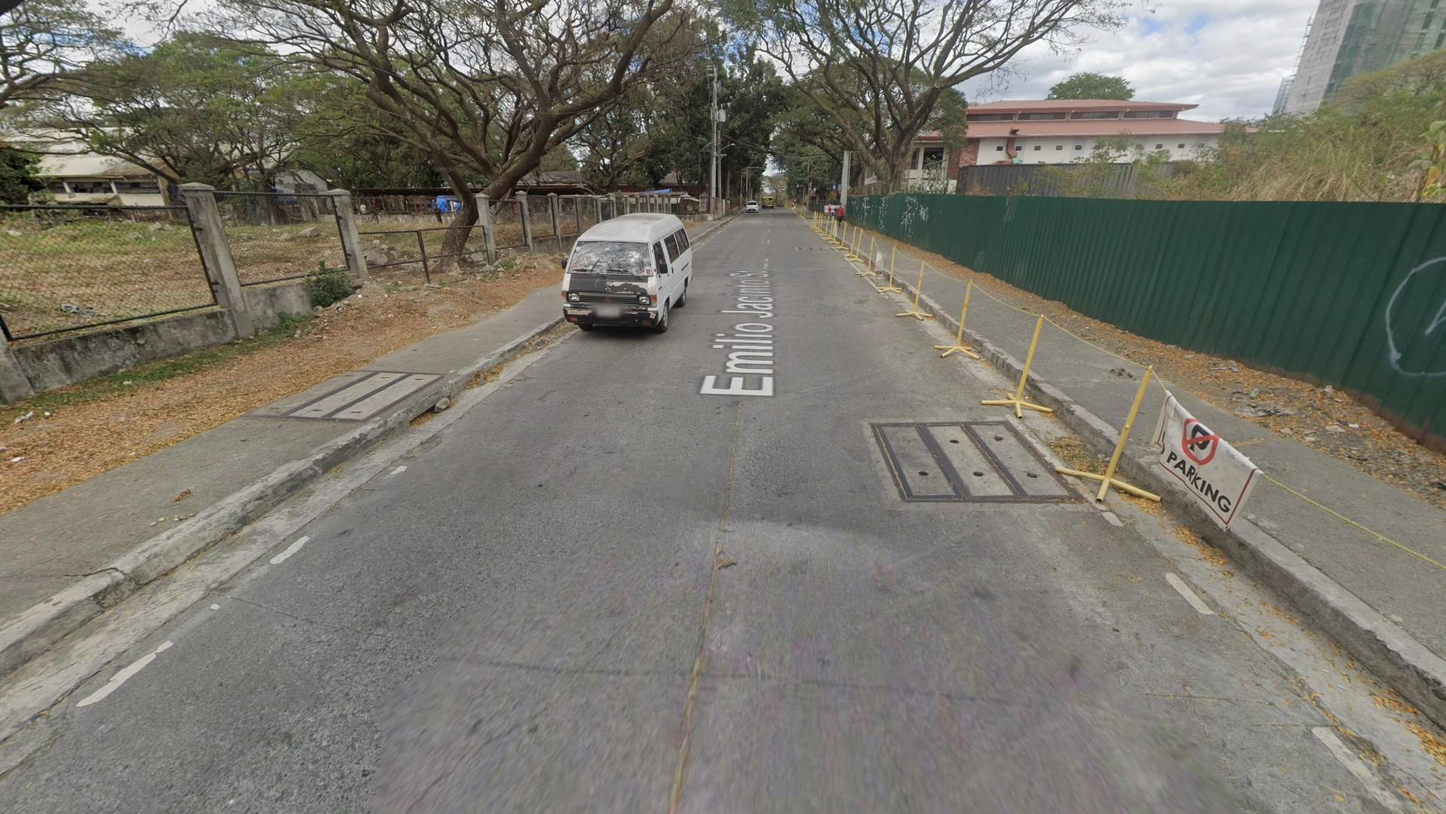pedestrian: (836, 203, 845, 228), (827, 202, 833, 222)
